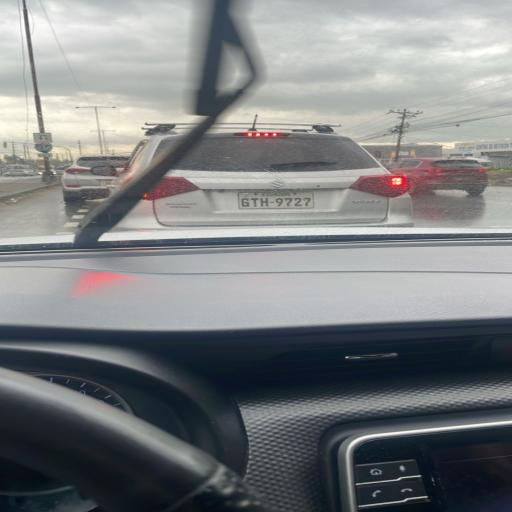license_plate: (238, 192, 314, 209)
